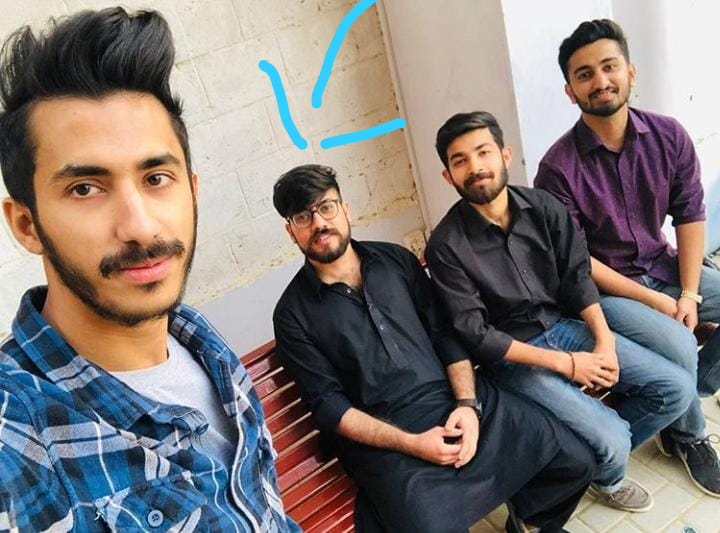NoMask: (45, 150, 193, 316), (289, 198, 348, 260), (573, 55, 632, 114), (449, 140, 504, 202)
